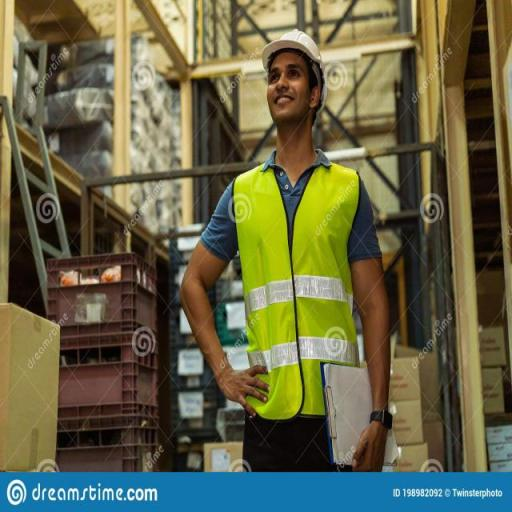helmet: (259, 26, 327, 72)
vest: (234, 158, 362, 422)
